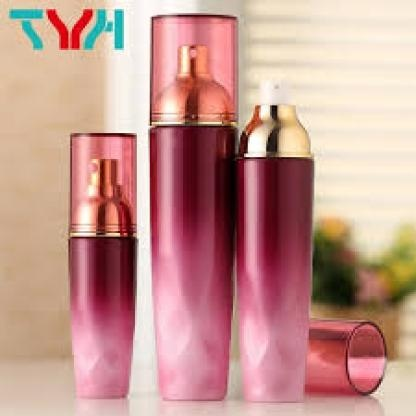trash: (150, 15, 236, 399), (237, 104, 313, 401), (69, 133, 135, 397)
